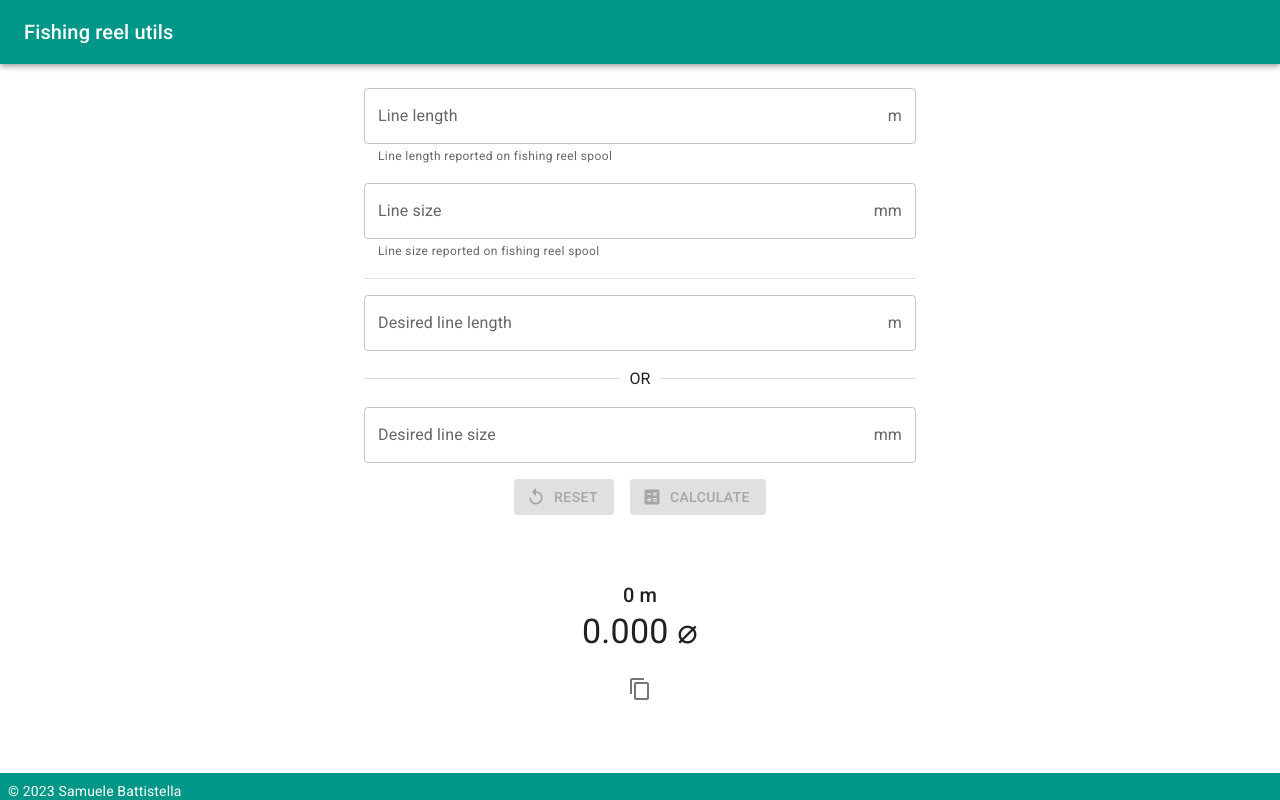
calculates line size by desired line size
Type "250" into the field labelled "Line length" at (622, 116), box [364,88,880,144]
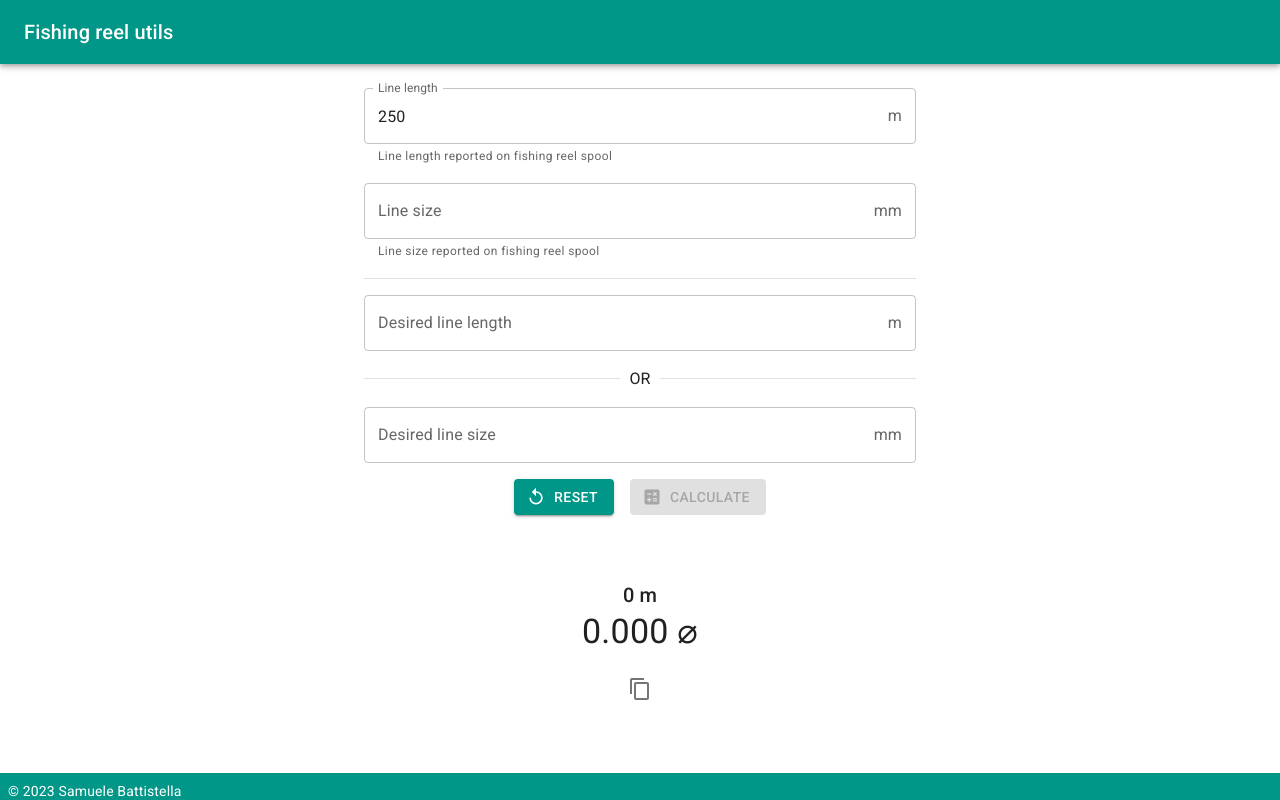
Type "0.20" into the field labelled "Line size" at (615, 211), box [364,183,866,239]
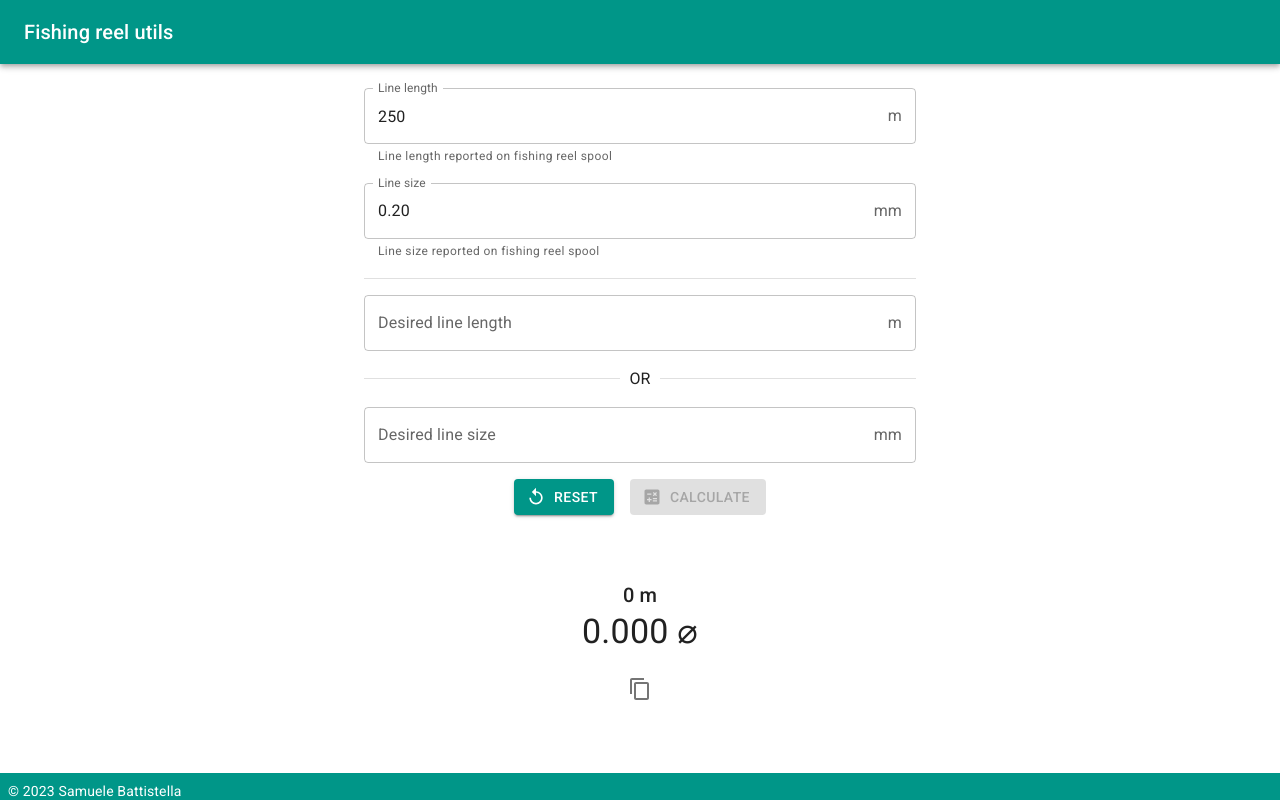
Type "0.18" into the field labelled "Desired line size" at (615, 435), box [364,407,866,463]
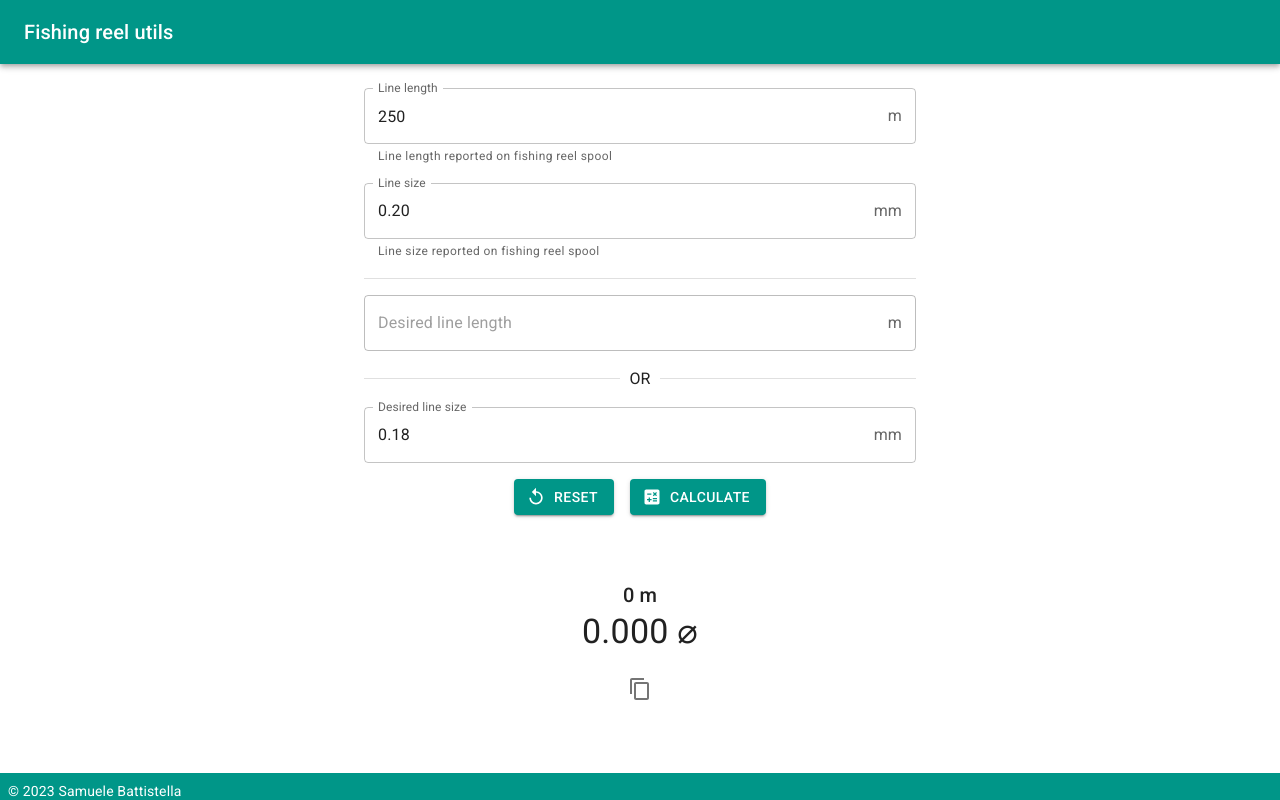
Click the button "Calculate" at (698, 497), box [630,479,766,515]
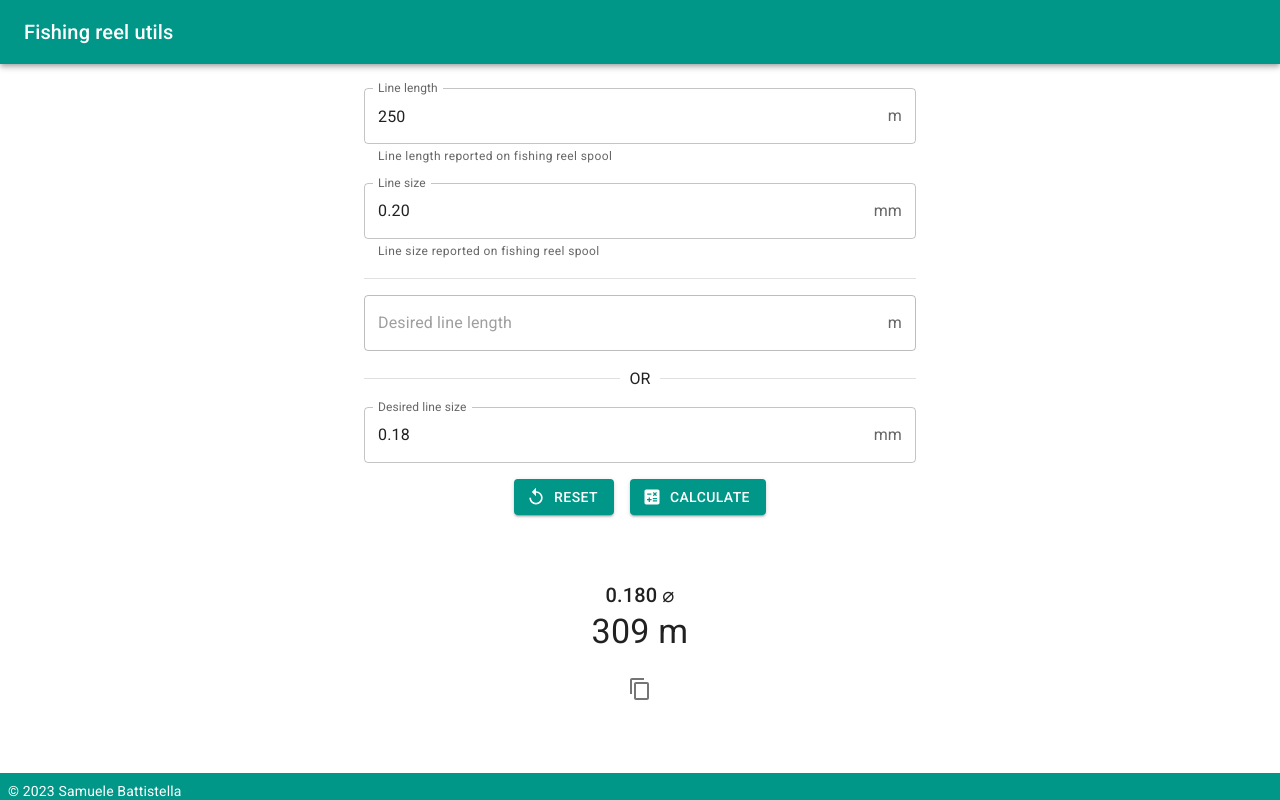
expect the text "309 m" is shown: met, box [592,611,688,653]
expect the text "0.180 ⌀" is shown: met, box [605,579,674,611]
